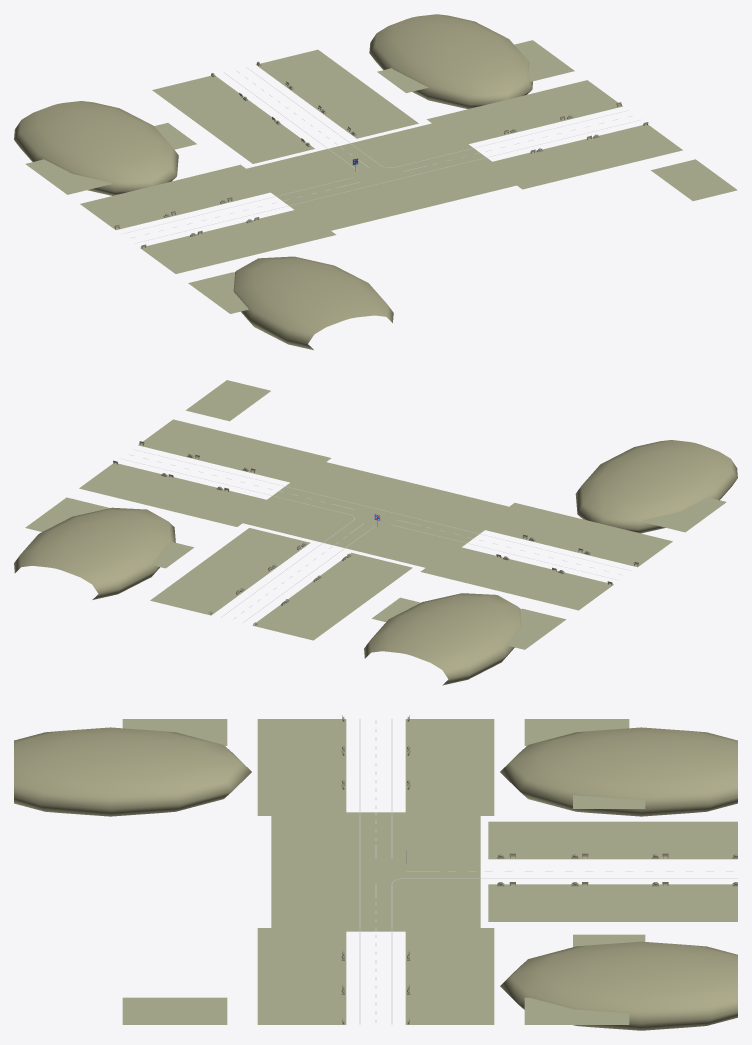
3 views of the same model, one above another, from view 1: azimuth 30°, elevation 25°; view 2: azimuth 150°, elevation 25°; view 3: azimuth 270°, elevation 25° (orthographic). The views are drawn at different scales.
Visible parts, largest first — view 1: static; view 2: static; view 3: static.
Boxes of the visible parts, <box> form: static: <box>14,14,737,349</box>; static: <box>14,380,737,685</box>; static: <box>14,715,737,1030</box>.
Size of what is drawn, in the model's own units: 180 by 14.08 by 180.
3 materials, 2 textured.
